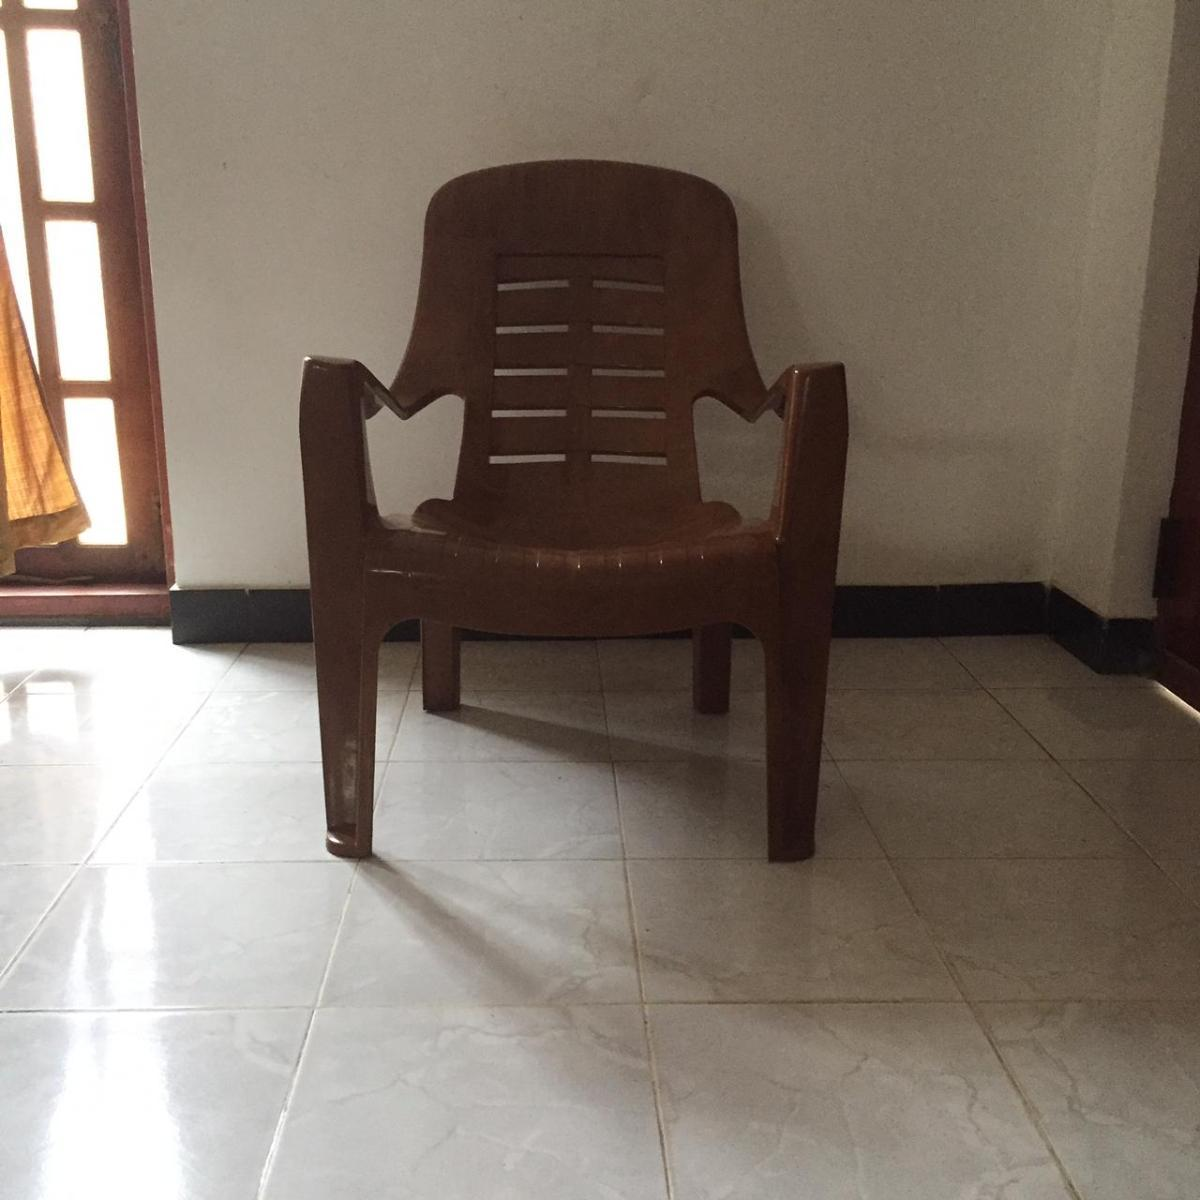Chair: (299, 157, 848, 862)
